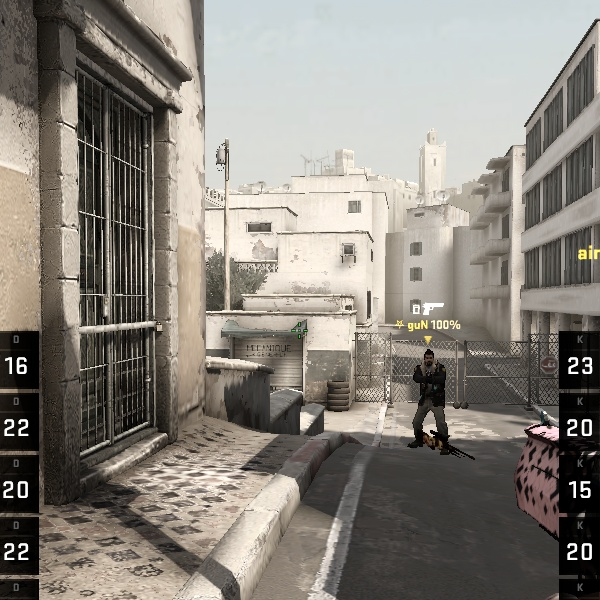t_body: (398, 345, 458, 452)
